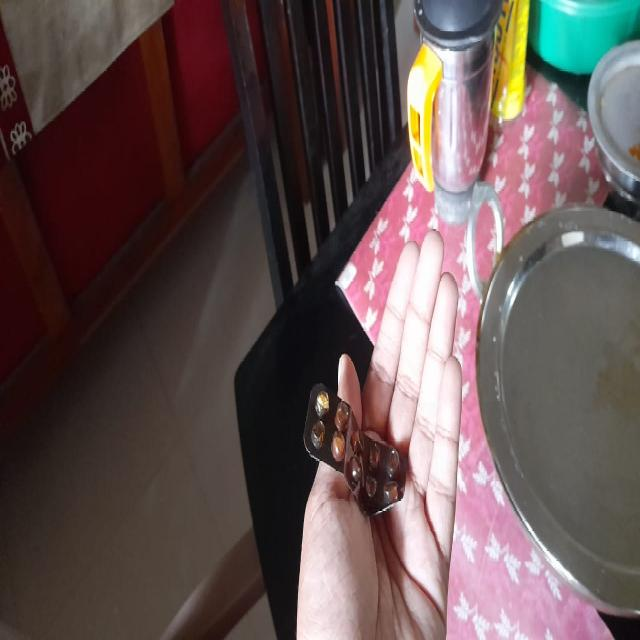Blister_Packs - Non Recyclable: (296, 372, 413, 532)
